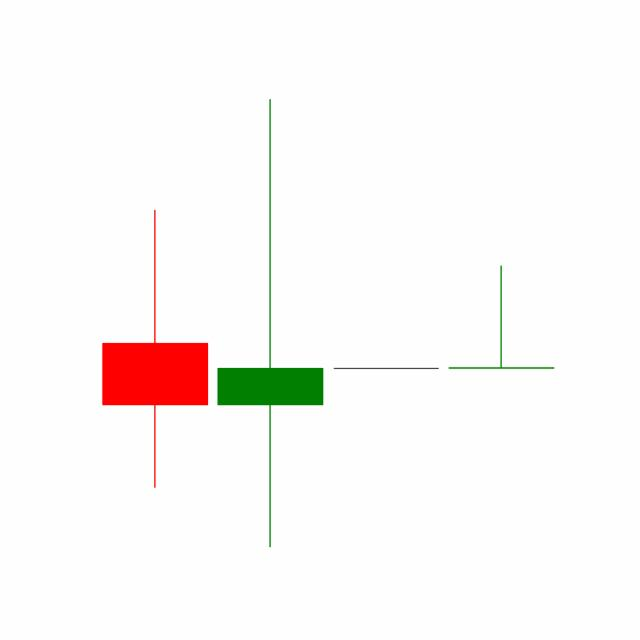Gravestone Doji: (443, 264, 559, 370)
